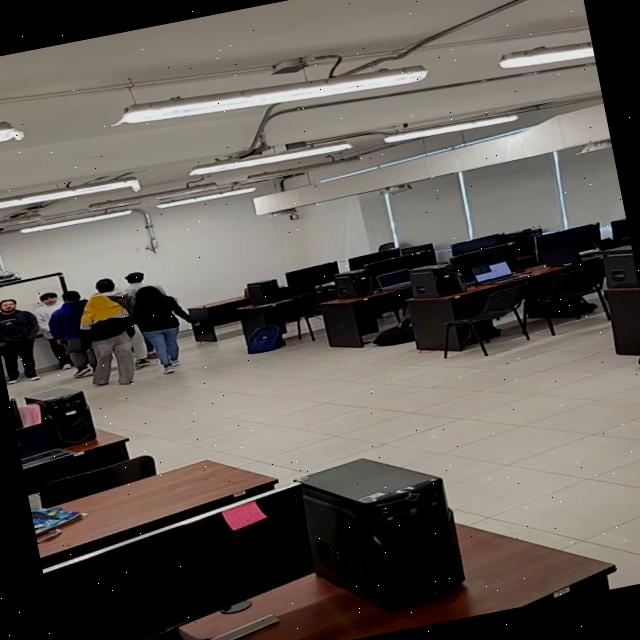Persona: (124, 281, 194, 368), (84, 289, 142, 382), (0, 291, 45, 390), (57, 289, 94, 356), (30, 287, 64, 327)
